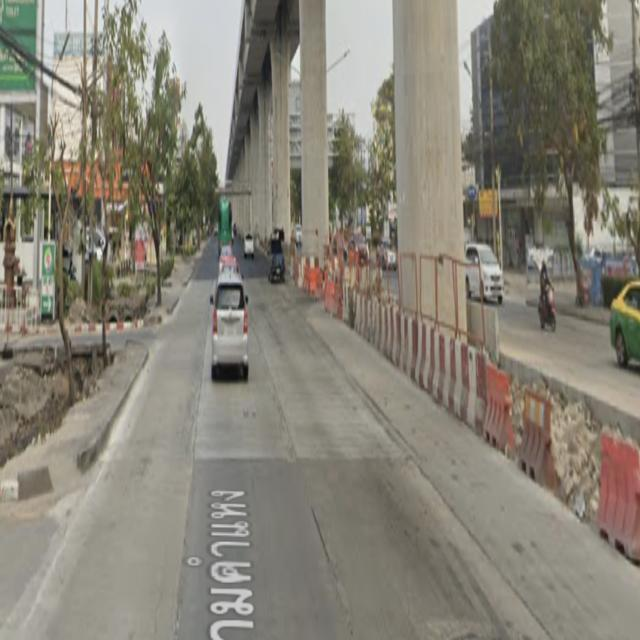fallen_object: (463, 350, 635, 557), (337, 283, 475, 421), (296, 250, 385, 320)
